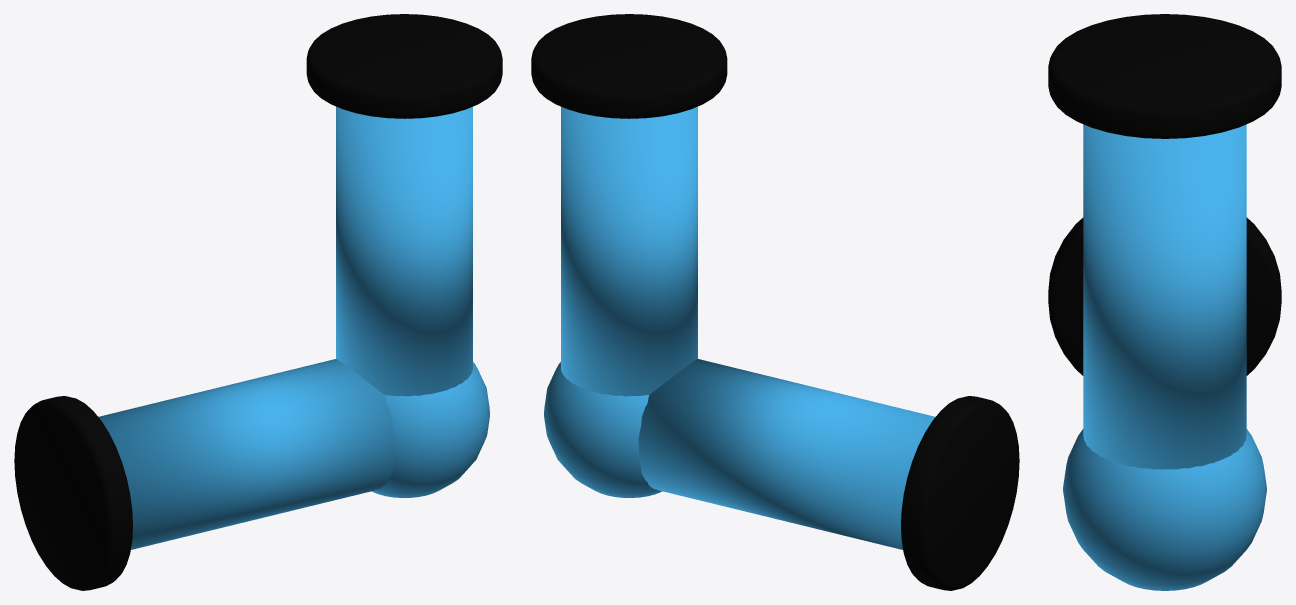
The model's file is pipe-elbow-90.glb.
3 renders of one model, left to right at view 1: azimuth 30°, elevation 25°; view 2: azimuth 150°, elevation 25°; view 3: azimuth 270°, elevation 25°, orthographic. The views are drawn at different scales.
Parts seen in each view (by area): view 1: elbow vertical leg, elbow horizontal leg, elbow in flange, elbow out flange, elbow rounded bend hub; view 2: elbow vertical leg, elbow horizontal leg, elbow in flange, elbow out flange, elbow rounded bend hub; view 3: elbow vertical leg, elbow out flange, elbow rounded bend hub, elbow in flange.
Part boxes in pixels (bbox=[...]): elbow vertical leg: bbox=[336, 106, 472, 396]; elbow horizontal leg: bbox=[98, 359, 395, 549]; elbow in flange: bbox=[14, 396, 132, 590]; elbow out flange: bbox=[306, 14, 502, 118]; elbow rounded bend hub: bbox=[372, 362, 489, 497]; elbow vertical leg: bbox=[561, 106, 697, 396]; elbow horizontal leg: bbox=[638, 359, 935, 549]; elbow in flange: bbox=[901, 396, 1019, 590]; elbow out flange: bbox=[531, 14, 727, 118]; elbow rounded bend hub: bbox=[544, 362, 661, 497]; elbow vertical leg: bbox=[1083, 124, 1246, 469]; elbow out flange: bbox=[1048, 14, 1281, 138]; elbow rounded bend hub: bbox=[1063, 429, 1266, 590]; elbow in flange: bbox=[1048, 217, 1281, 375].
Bounding box in the file's own units: 1.01 × 1.01 × 0.4.
